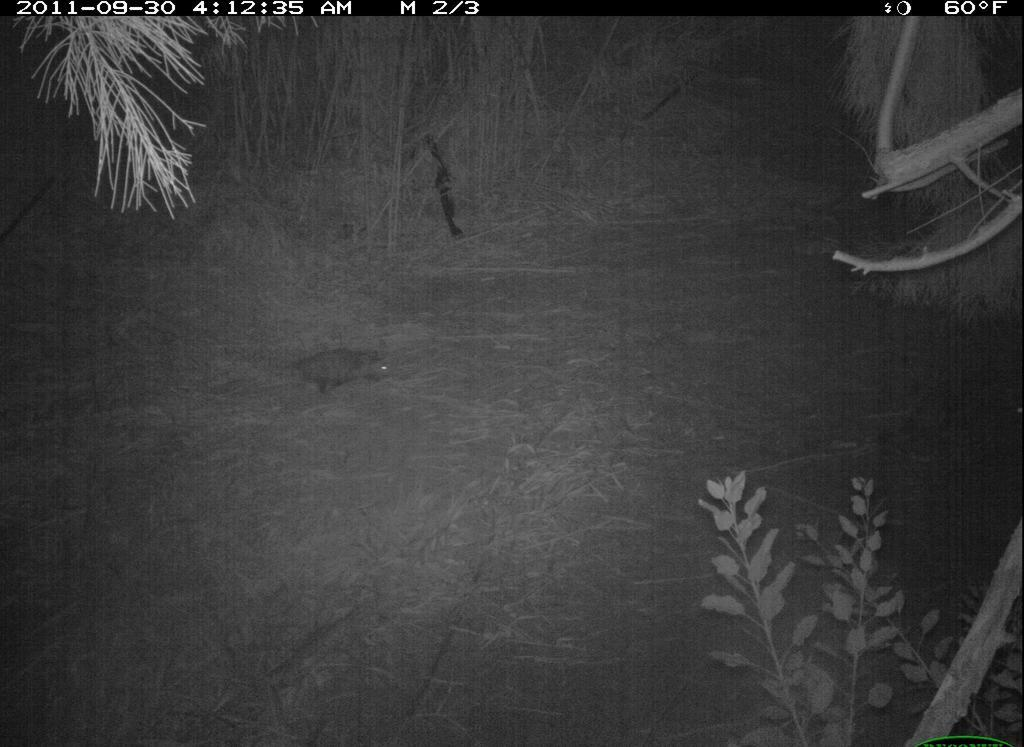opossum: (271, 332, 418, 409)
